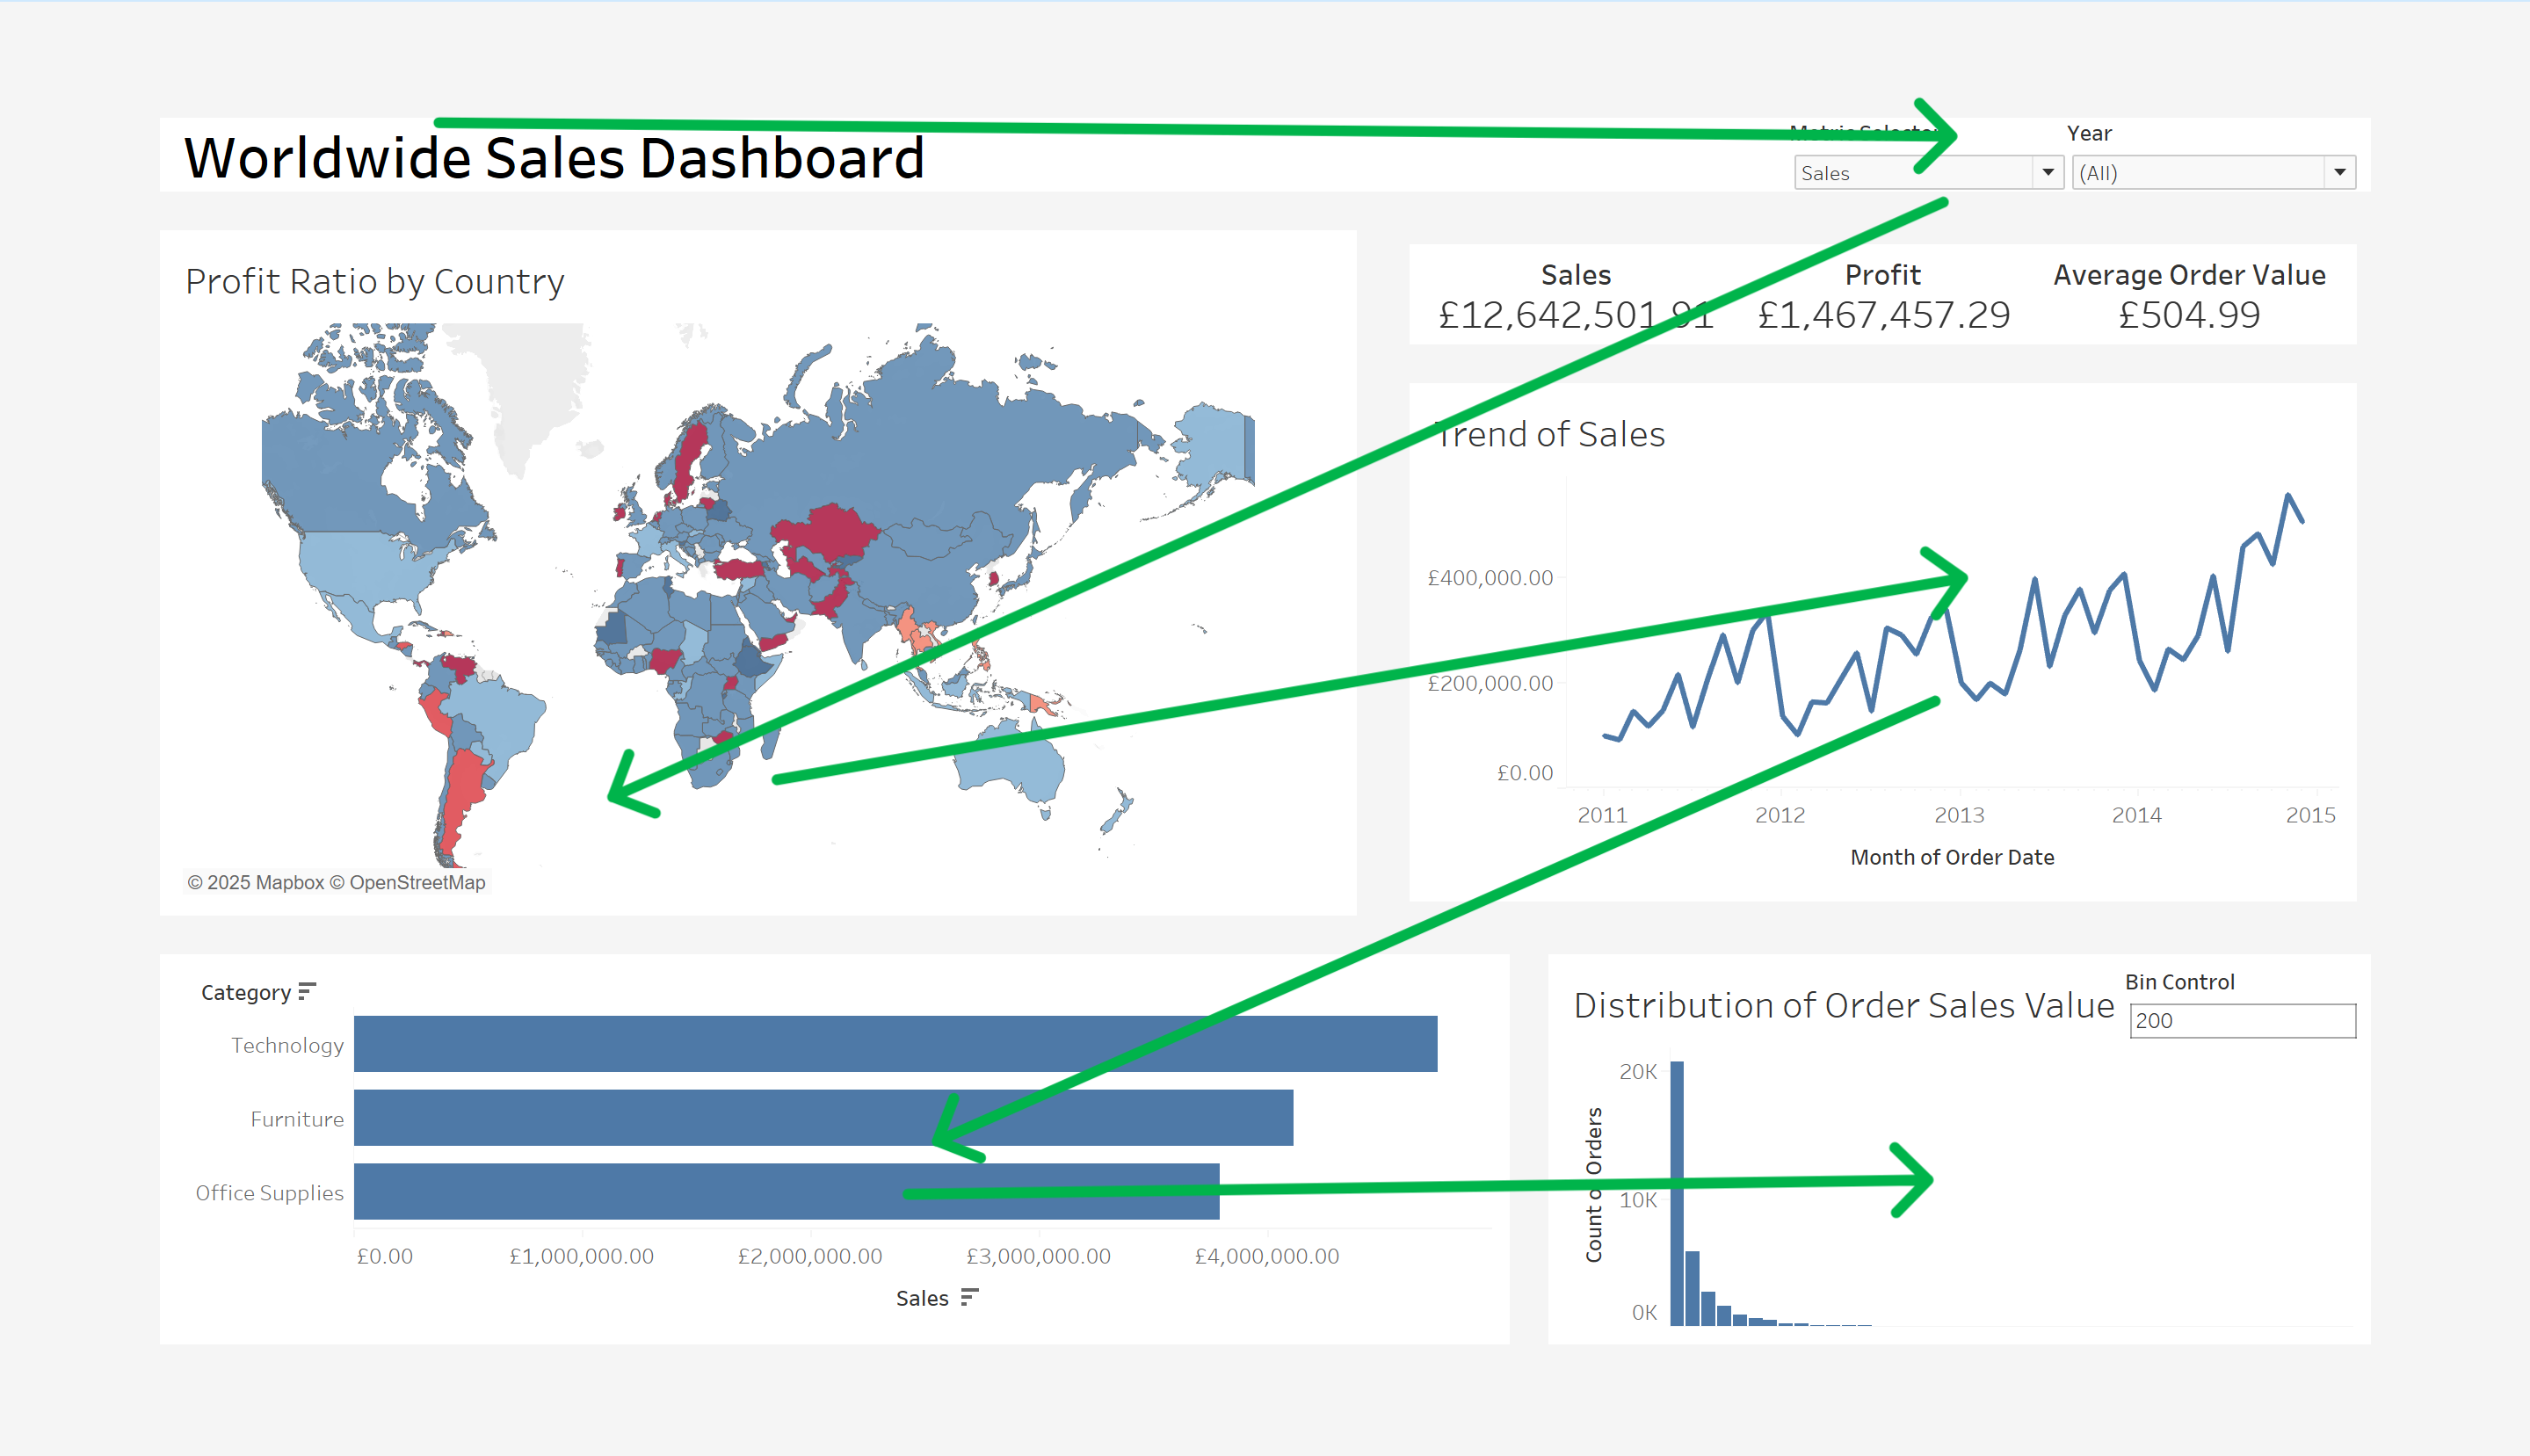

Layout of this report page (visuals, bound fields, positions):
{"tool":"tableau","page":{"name":"Dashboard Final ","canvas":[1280,720],"ordinal":0},"visuals":[{"type":"text","box":[0,0,1280,64]},{"type":"parameter","param":"[Parameters].[Parameter 2]","box":[938,11,160,48]},{"type":"filter","title":"Trend of profit or sales","param":"[federated.0btv2od0czriyw11jt19s1bigyv6].[yr:Order Date:ok]","box":[1096,11,168,49]},{"type":"worksheet","title":"KPIs","mark":"Text","box":[723,64,557,79]},{"type":"worksheet","title":"Profit Ratio by Country","mark":"Automatic","box":[21,85,680,370]},{"type":"worksheet","title":"Profit Ratio by State","mark":"Automatic","box":[701,85,1,370]},{"type":"worksheet","title":"Trend of profit or sales","mark":"Automatic","rows":["Calculation_1125967248420864"],"cols":["Order Date"],"box":[723,143,557,333]},{"type":"worksheet","title":"Profit and Sales by Category","mark":"Automatic","rows":["Category"],"cols":["Calculation_1125967248420864"],"box":[0,476,790,244]},{"type":"worksheet","title":"Distribution of Order Metric Value","mark":"Automatic","rows":["Order ID"],"cols":["Selected Metric (bin)"],"box":[790,476,490,244]},{"type":"parameter","param":"[Parameters].[Parameter 1]","box":[1129,494,135,44]}]}

Visuals, with their boxes in screenshot pixels (x1, y1, x2, y2), scaled from the page's 1280x720 canvas onto the 2530x1456 screenshot:
text: bbox(0, 0, 2529, 129)
parameter: bbox(1854, 22, 2171, 120)
"Trend of profit or sales" filter: bbox(2166, 22, 2498, 121)
"KPIs" worksheet (Text marks): bbox(1429, 129, 2529, 289)
"Profit Ratio by Country" worksheet: bbox(41, 172, 1386, 920)
"Profit Ratio by State" worksheet: bbox(1386, 172, 1388, 920)
"Trend of profit or sales" worksheet: bbox(1429, 289, 2529, 962)
"Profit and Sales by Category" worksheet: bbox(0, 962, 1562, 1455)
"Distribution of Order Metric Value" worksheet: bbox(1562, 962, 2529, 1455)
parameter: bbox(2231, 999, 2498, 1088)
